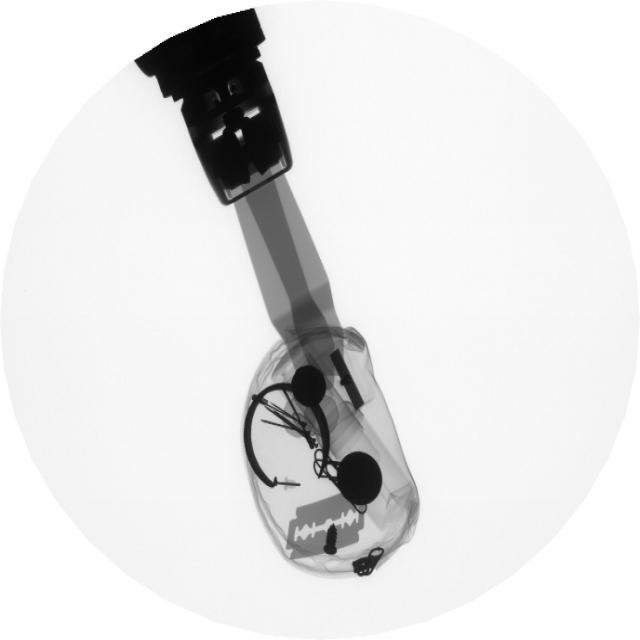BLADE: (283, 487, 376, 566)
